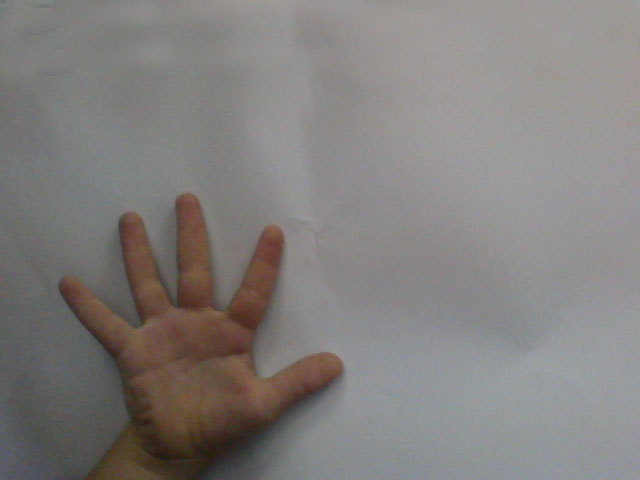hand: (43, 175, 365, 454)
